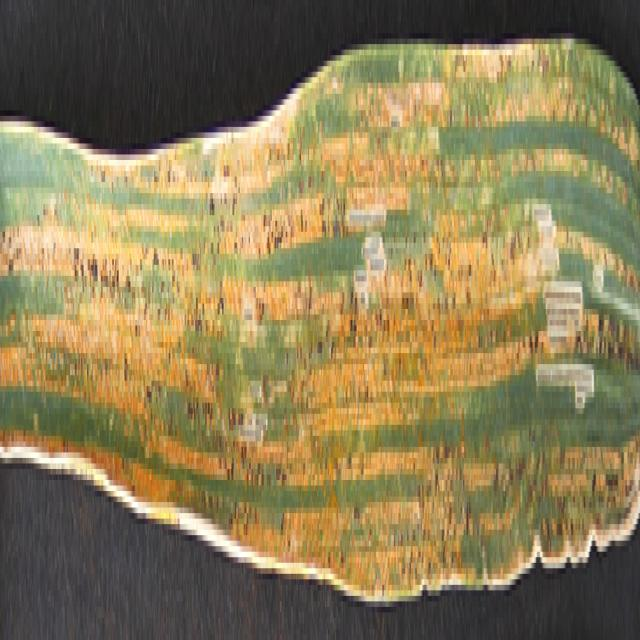leaf rust: (1, 33, 639, 585)
